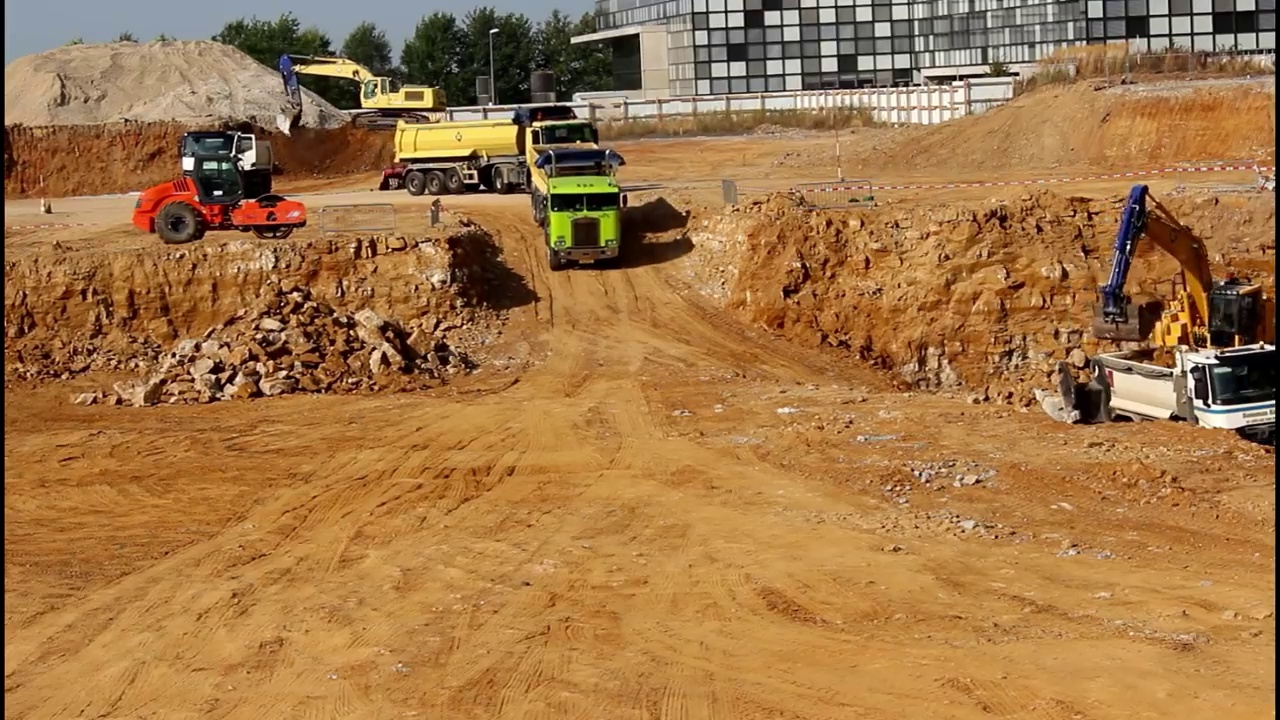compactor: (133, 152, 311, 248)
excavator: (1091, 178, 1280, 374), (271, 47, 450, 141)
truck: (1085, 336, 1280, 470), (378, 110, 616, 195), (522, 140, 639, 278), (173, 117, 288, 213)
